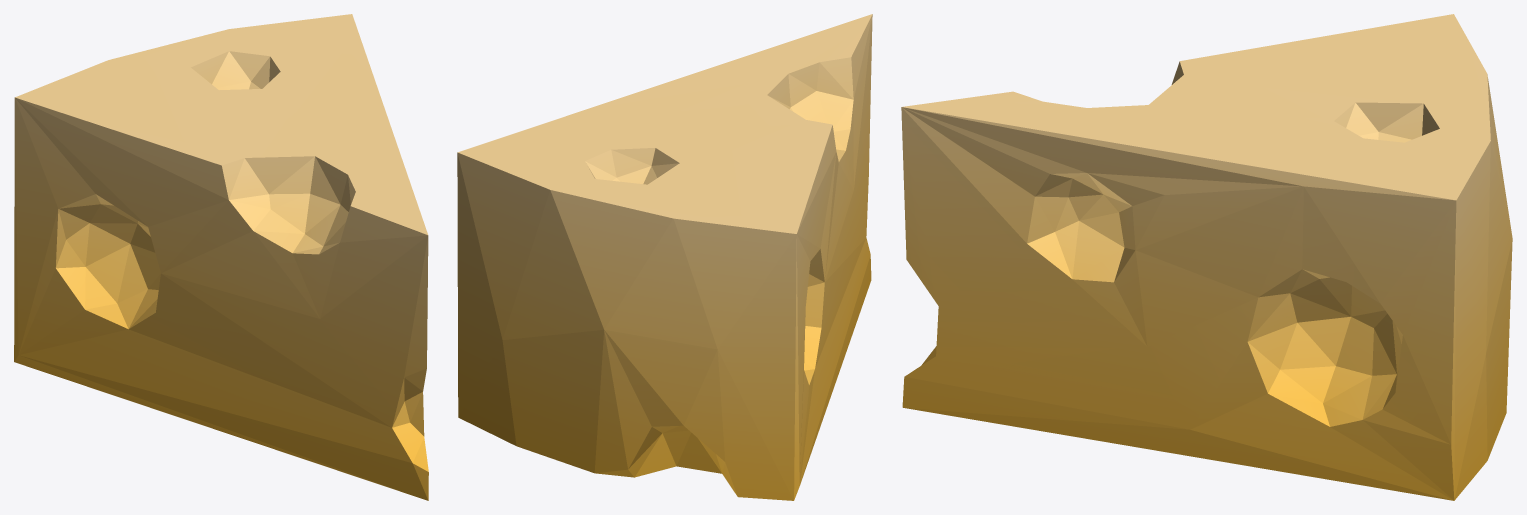
File: SM_Food_Cheese.fbx
3 renders of one model, left to right at view 1: azimuth 30°, elevation 25°; view 2: azimuth 150°, elevation 25°; view 3: azimuth 270°, elevation 25°, orthographic. The views are drawn at different scales.
Visible parts, largest first — view 1: SM_Food_Cheese; view 2: SM_Food_Cheese; view 3: SM_Food_Cheese.
Boxes of the visible parts, box(x1,y1,x2,y2) form: SM_Food_Cheese: box(14, 14, 428, 500); SM_Food_Cheese: box(457, 14, 872, 500); SM_Food_Cheese: box(901, 14, 1512, 500).
Bounding box in the file's own units: 19.64 × 14.73 × 27.14.
